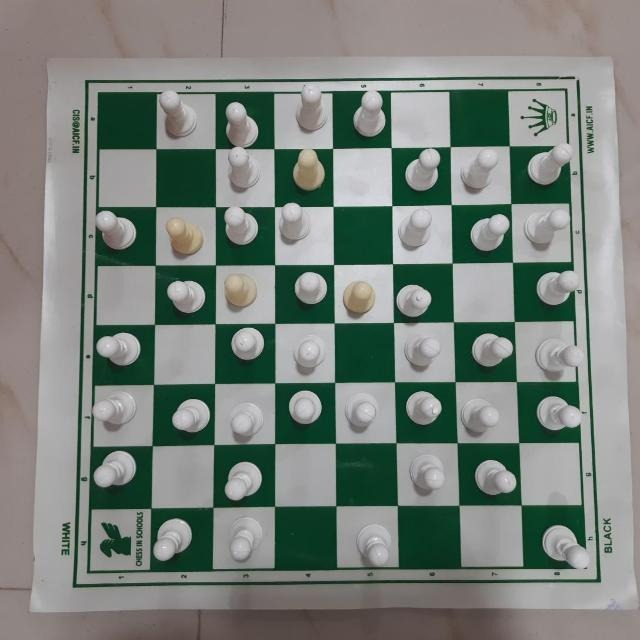white-pawn: (151, 514, 201, 570), (536, 521, 590, 572), (349, 515, 397, 569), (222, 511, 269, 566), (470, 453, 520, 502), (90, 449, 141, 497), (522, 145, 574, 192), (94, 329, 148, 373), (91, 208, 140, 255), (90, 388, 140, 434), (403, 451, 448, 501), (157, 90, 201, 140), (532, 333, 584, 375), (224, 395, 270, 442), (466, 328, 516, 371), (161, 215, 207, 261), (522, 206, 570, 250), (457, 145, 499, 195), (350, 88, 390, 140), (465, 210, 512, 254), (401, 388, 448, 432), (222, 457, 266, 504), (220, 149, 264, 195), (457, 394, 501, 440), (537, 392, 583, 436), (395, 206, 437, 254), (293, 82, 333, 132), (401, 147, 443, 194), (530, 267, 577, 309), (284, 386, 327, 430), (160, 277, 207, 317), (395, 279, 437, 323), (400, 331, 444, 373), (341, 388, 383, 432), (221, 270, 261, 316), (277, 201, 316, 248), (222, 100, 260, 148), (223, 204, 261, 252), (226, 324, 267, 368), (290, 147, 330, 192), (339, 277, 381, 319), (289, 331, 331, 373), (289, 268, 331, 309), (169, 395, 213, 433)
